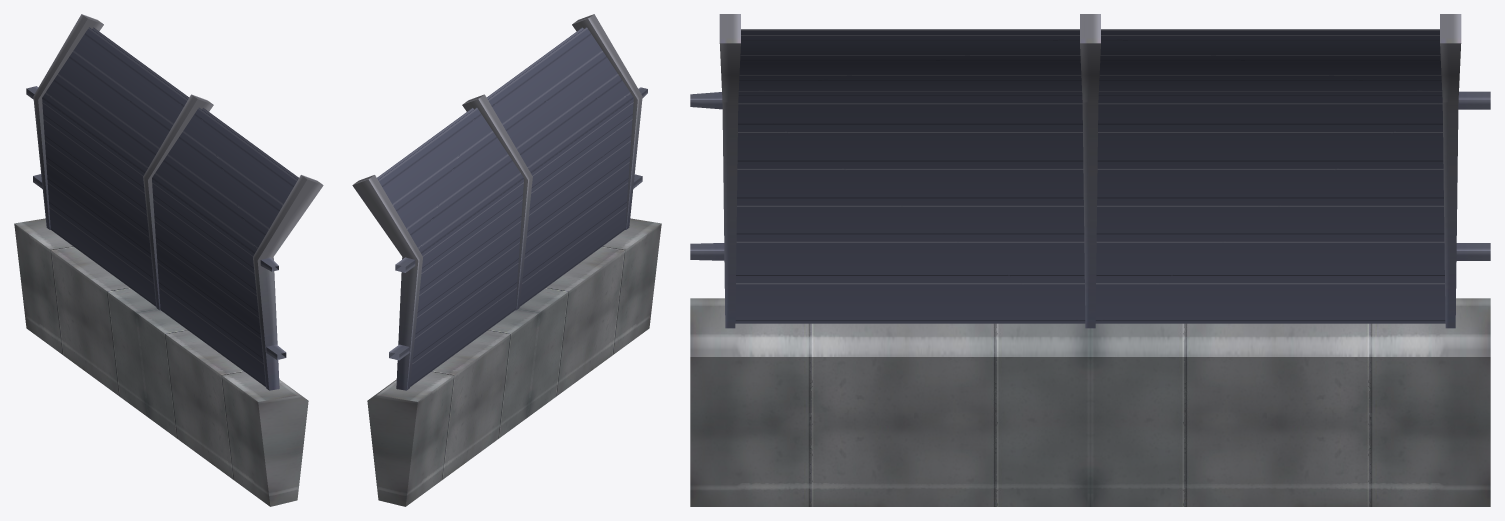
The model's file is Track_fence.fbx.
3 renders of one model, left to right at view 1: azimuth 30°, elevation 25°; view 2: azimuth 150°, elevation 25°; view 3: azimuth 270°, elevation 25°, orthographic. The views are drawn at different scales.
Visible parts, largest first — view 1: Track_fence; view 2: Track_fence; view 3: Track_fence.
Boxes of the visible parts, left/top/right/bottom form: Track_fence: left=14, top=14, right=323, bottom=506; Track_fence: left=352, top=14, right=661, bottom=506; Track_fence: left=690, top=14, right=1490, bottom=506.
Bounding box in the file's own units: 152 × 602 × 860.
